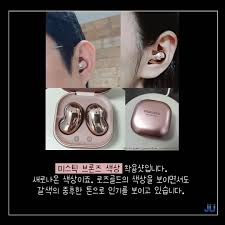earphone: (138, 29, 177, 78), (74, 40, 96, 82)
